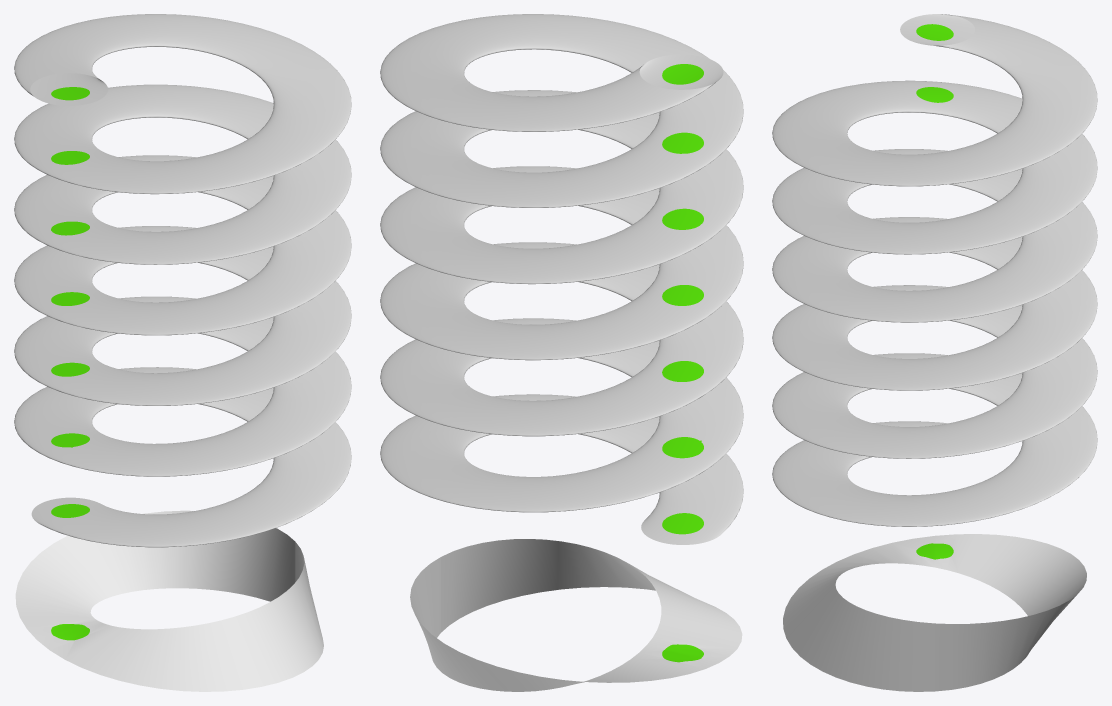
Rendered from mobius-with-universal-covering-space.glb.
3 renders of one model, left to right at view 1: azimuth 30°, elevation 25°; view 2: azimuth 150°, elevation 25°; view 3: azimuth 270°, elevation 25°, orthographic. The views are drawn at different scales.
Visible parts, largest first — view 1: Spiral, Mobius Strip; view 2: Spiral, Mobius Strip; view 3: Spiral, Mobius Strip.
Boxes of the visible parts, x1,y1,x2,y2 form: Spiral: (14,14,351,547); Mobius Strip: (15,510,323,691); Spiral: (380,14,743,544); Mobius Strip: (410,539,742,691); Spiral: (772,14,1097,526); Mobius Strip: (783,534,1086,691).
Bounding box in the file's own units: 2.6 × 4.9 × 2.6.
